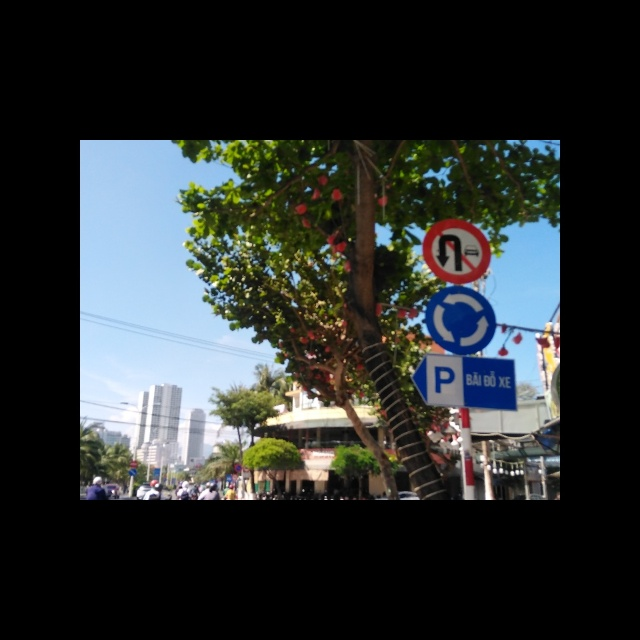Cấm xe ô tô quay đầu: (422, 220, 491, 284)
Nơi giao nhau chạy theo vòng xuyến: (427, 285, 496, 355)
Nơi đỗ xe: (406, 354, 518, 414)
